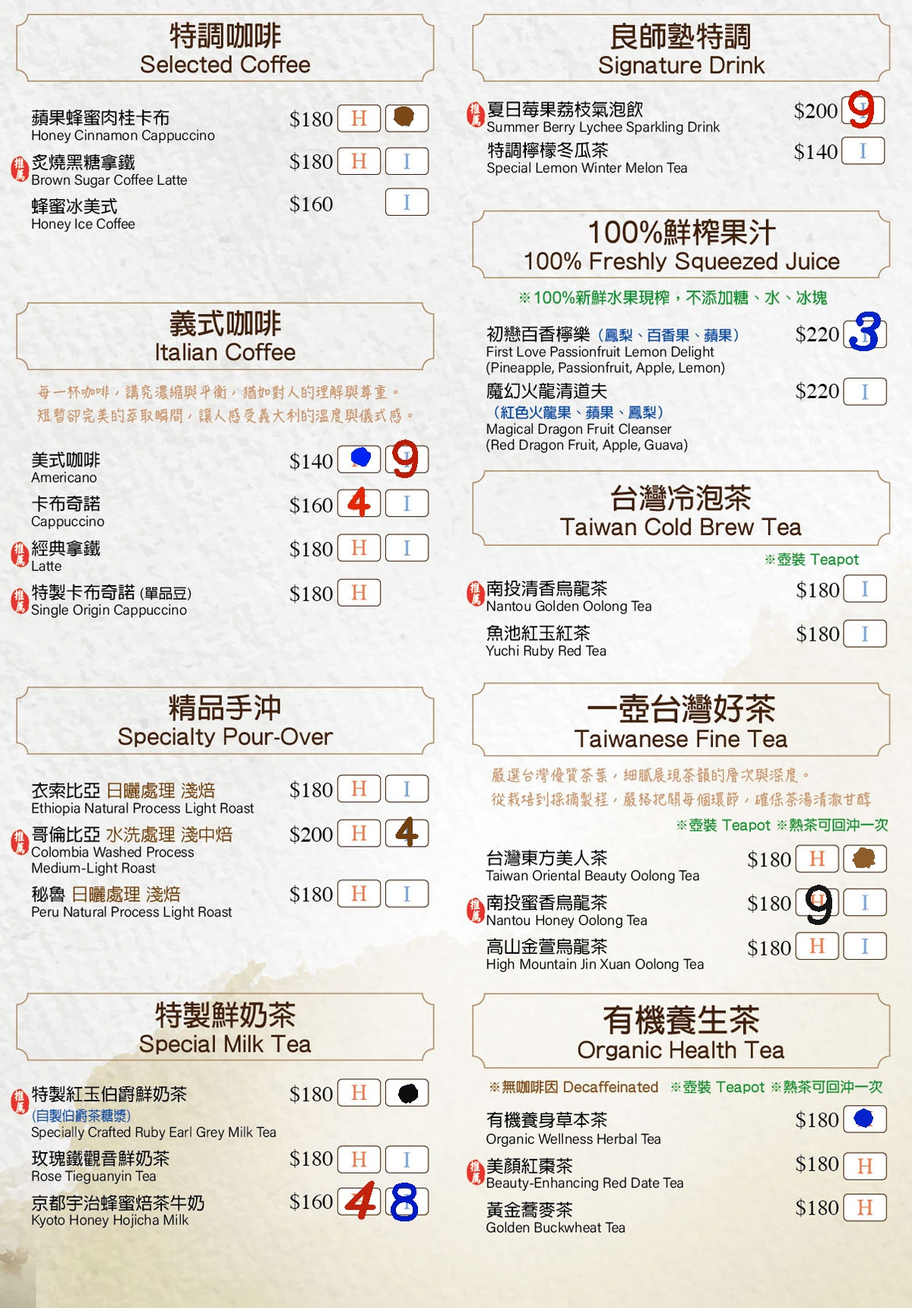marked_circle: (388, 107, 427, 131), (844, 845, 883, 869), (846, 1106, 885, 1129), (391, 1081, 429, 1104), (340, 447, 378, 470)
marked_number_3: (845, 321, 884, 345)
marked_number_4: (339, 489, 378, 513), (385, 822, 424, 845), (340, 1189, 379, 1212)
marked_number_8: (387, 1189, 426, 1212)
marked_number_9: (844, 98, 883, 122), (388, 446, 426, 470), (799, 892, 838, 915)
